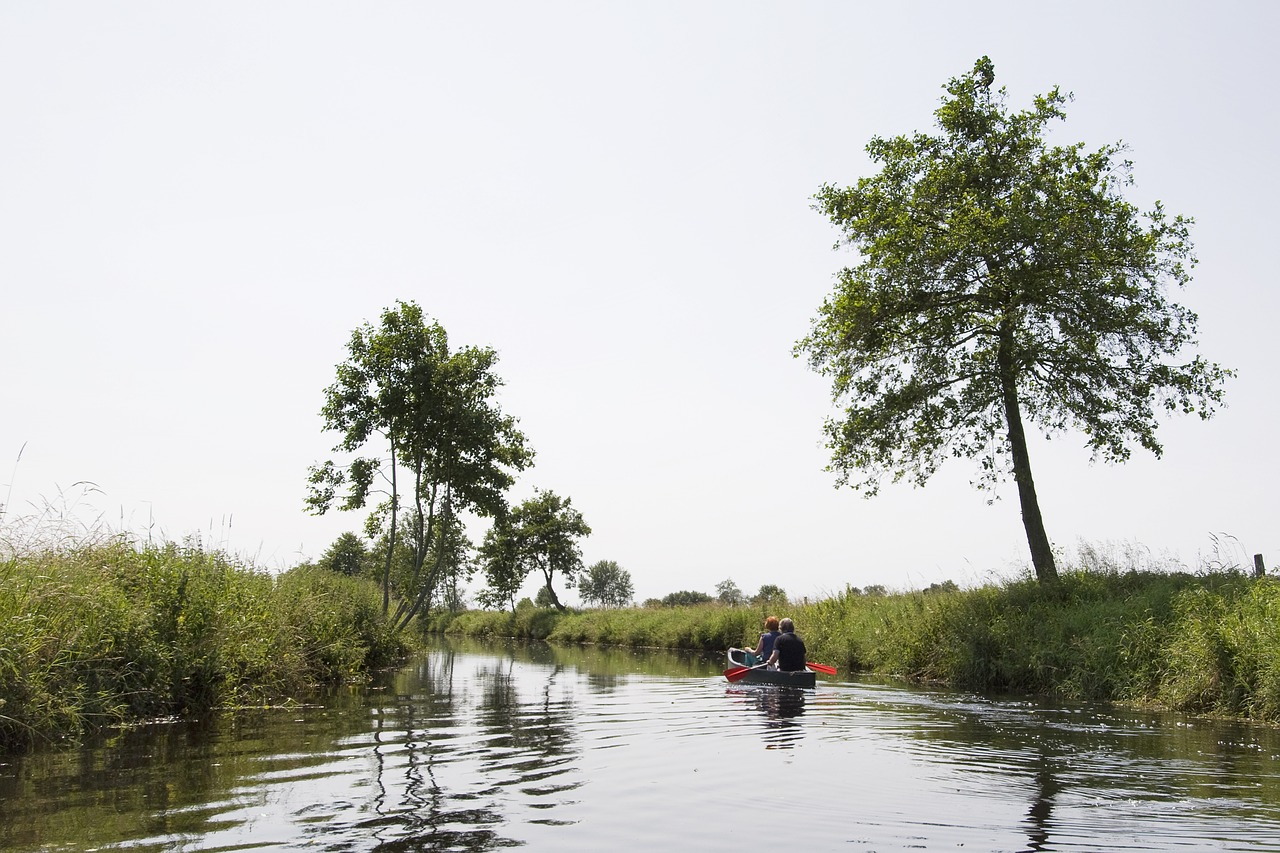kayak: (721, 641, 821, 691)
